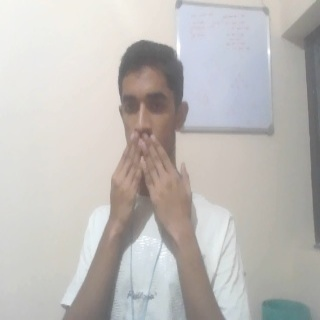Thank You: (104, 132, 200, 256)
